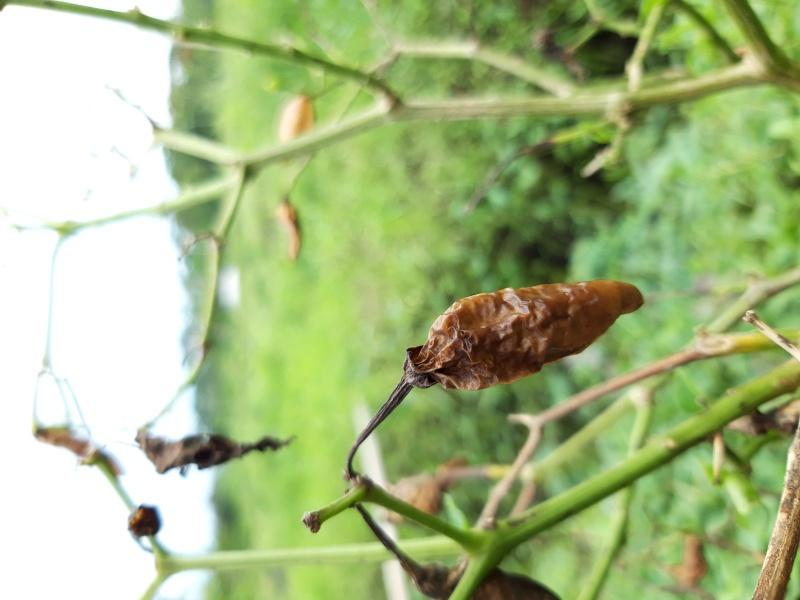antraknosa: (414, 278, 644, 390)
